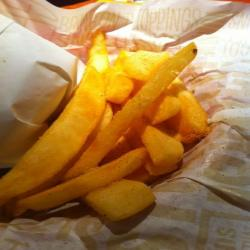fries: (4, 41, 207, 220)
